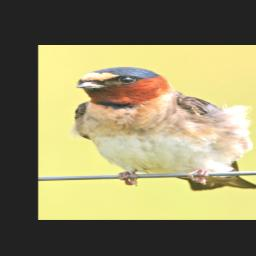Swallow: (62, 63, 256, 196)
